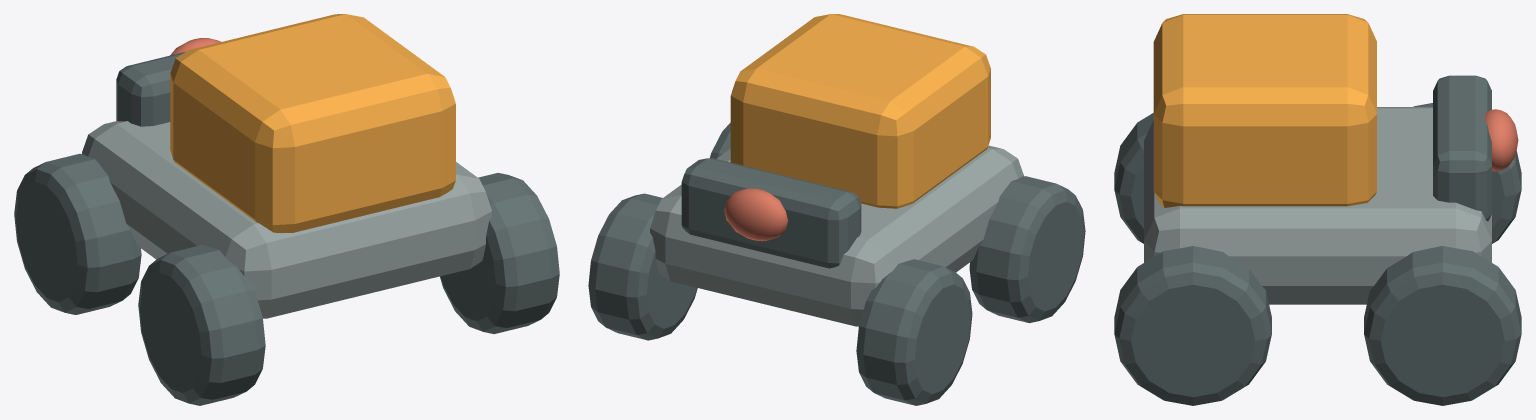
Rendered from drone.glb.
3 views of the same model, side by side, from view 1: azimuth 30°, elevation 25°; view 2: azimuth 150°, elevation 25°; view 3: azimuth 270°, elevation 25° (orthographic). The views are drawn at different scales.
Visible parts, largest first — view 1: Bomb payload, Drone chassis, Drone wheel, Drone wheel.001, Drone wheel.002, Robot sensor; view 2: Bomb payload, Drone chassis, Drone wheel.001, Drone wheel, Robot sensor, Drone wheel.003, Sensor eye; view 3: Bomb payload, Drone chassis, Drone wheel.002, Drone wheel.003, Robot sensor, Drone wheel, Drone wheel.001, Sensor eye.
Part boxes in pixels (x1,y1,x2,y2): Bomb payload: (170, 14, 455, 232); Drone chassis: (82, 121, 491, 318); Drone wheel: (138, 245, 265, 405); Drone wheel.001: (14, 153, 141, 314); Drone wheel.002: (440, 173, 559, 333); Robot sensor: (116, 52, 184, 126); Bomb payload: (730, 14, 990, 208); Drone chassis: (650, 145, 1023, 326); Drone wheel.001: (856, 259, 972, 405); Drone wheel: (969, 176, 1085, 323); Robot sensor: (681, 158, 861, 268); Drone wheel.003: (588, 193, 697, 340); Sensor eye: (724, 188, 787, 241); Bomb payload: (1153, 14, 1376, 207); Drone chassis: (1144, 107, 1491, 304); Drone wheel.002: (1114, 246, 1271, 405); Drone wheel.003: (1364, 246, 1521, 405); Robot sensor: (1433, 75, 1491, 221); Drone wheel: (1114, 113, 1153, 243); Drone wheel.001: (1413, 103, 1521, 243); Sensor eye: (1485, 109, 1518, 171).
Bounding box in the file's own units: 0.63 × 0.46 × 0.62.
